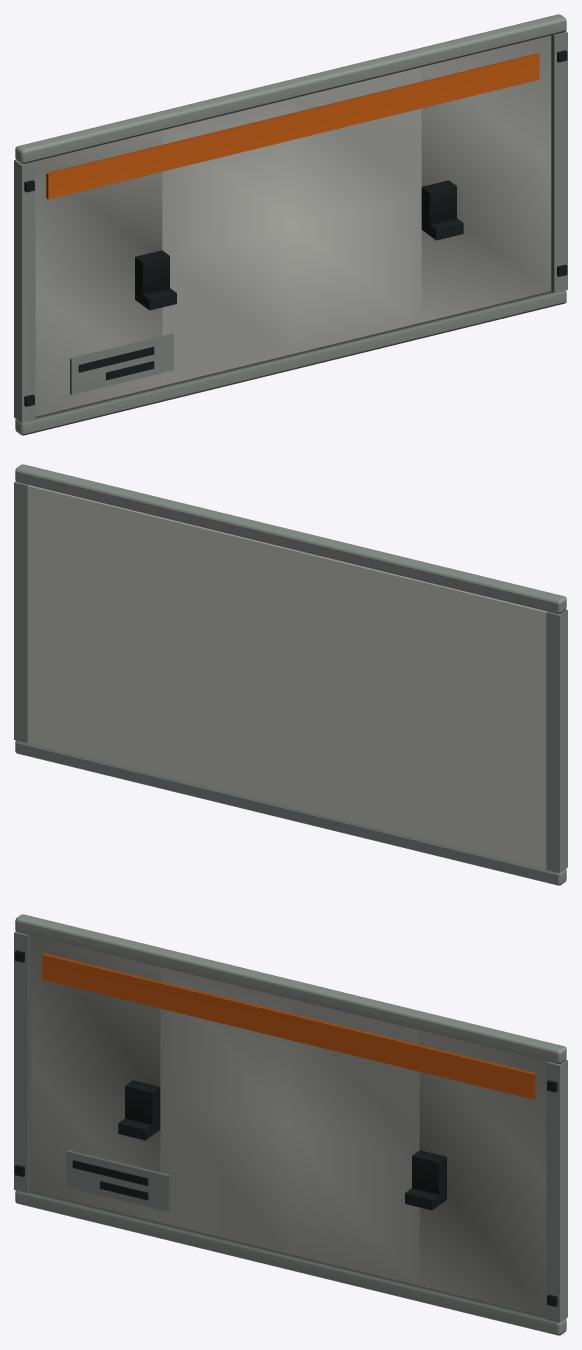
The model's file is weapon_rack.glb.
The picture shows the model from 3 angles, top to bottom: view 1: azimuth 30°, elevation 25°; view 2: azimuth 150°, elevation 25°; view 3: azimuth 330°, elevation 25°; orthographic projection.
Parts seen in each view (by area): view 1: WeaponRack; view 2: WeaponRack; view 3: WeaponRack.
Part boxes in pixels (left/top/right/bottom): WeaponRack: left=14, top=14, right=567, bottom=435; WeaponRack: left=14, top=464, right=567, bottom=885; WeaponRack: left=14, top=914, right=567, bottom=1335.
Bounding box in the file's own units: 1.6 × 0.8 × 0.1.
